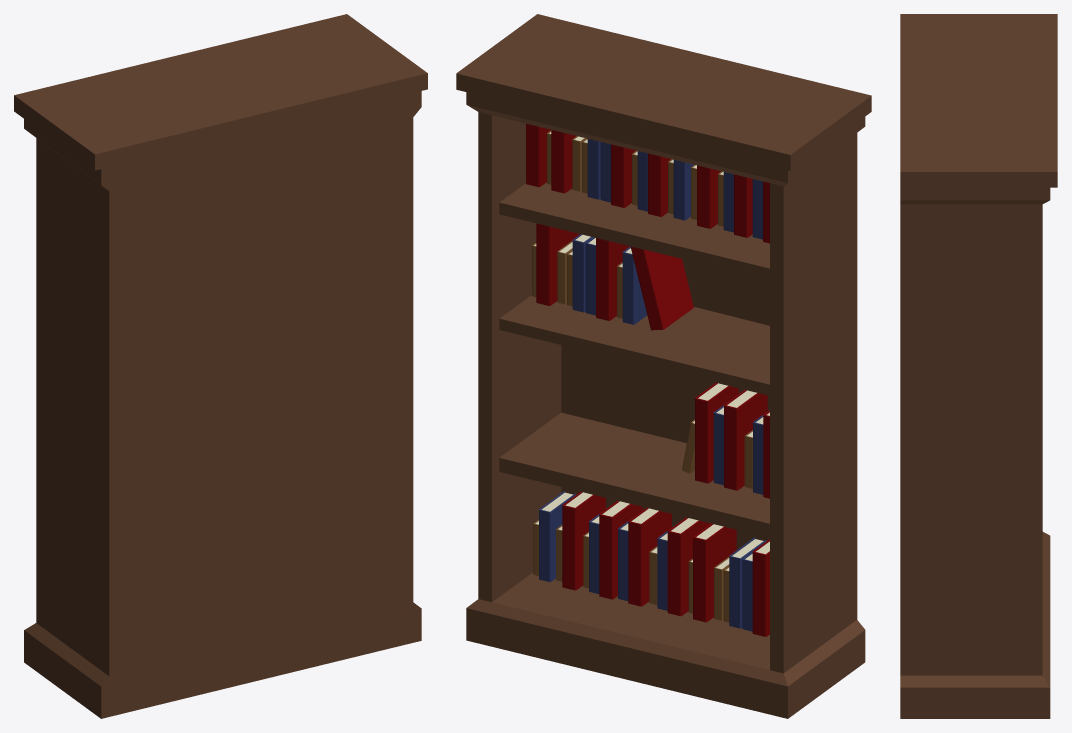
The model's file is etagère.fbx.
The picture shows the model from 3 angles, left to right: view 1: azimuth 30°, elevation 25°; view 2: azimuth 150°, elevation 25°; view 3: azimuth 270°, elevation 25°; orthographic projection. The views are drawn at different scales.
Visible parts, largest first — view 1: étagere; view 2: étagere; view 3: étagere.
Part boxes in pixels (<box>): étagere: <box>14,14,427,718</box>; étagere: <box>456,14,871,718</box>; étagere: <box>900,14,1057,718</box>.
Bounding box in the file's own units: 156 × 253 × 65.54.
